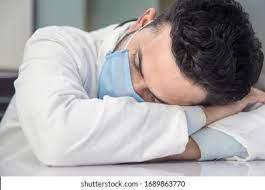sleep: (58, 0, 254, 158)
